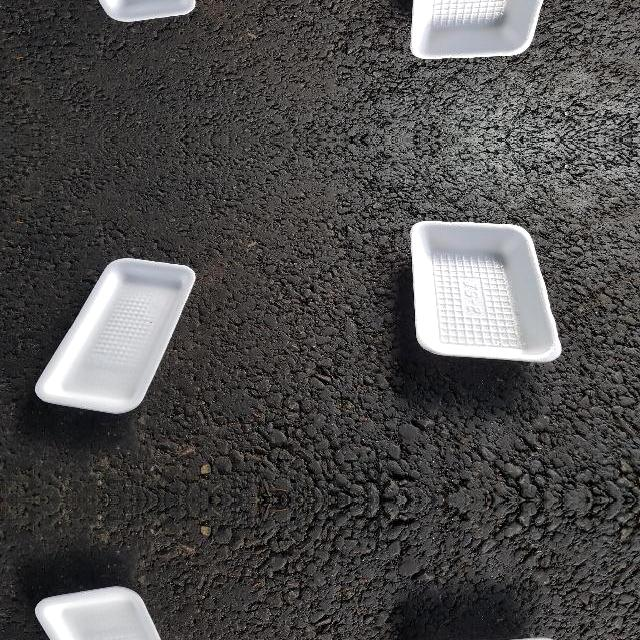Styrofoam: (32, 258, 196, 414), (34, 258, 195, 413), (409, 218, 561, 364), (411, 220, 563, 362), (409, 0, 561, 61), (32, 586, 196, 640), (411, 0, 545, 60), (34, 587, 161, 640)
